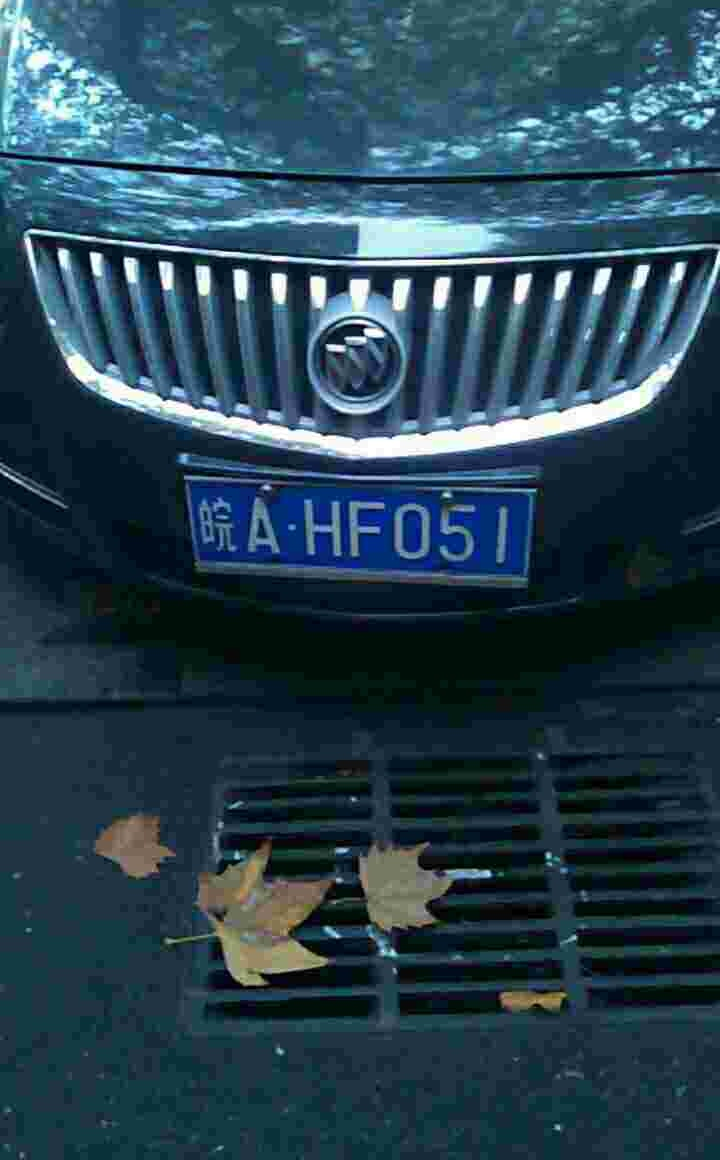license_plate: (184, 483, 551, 569)
